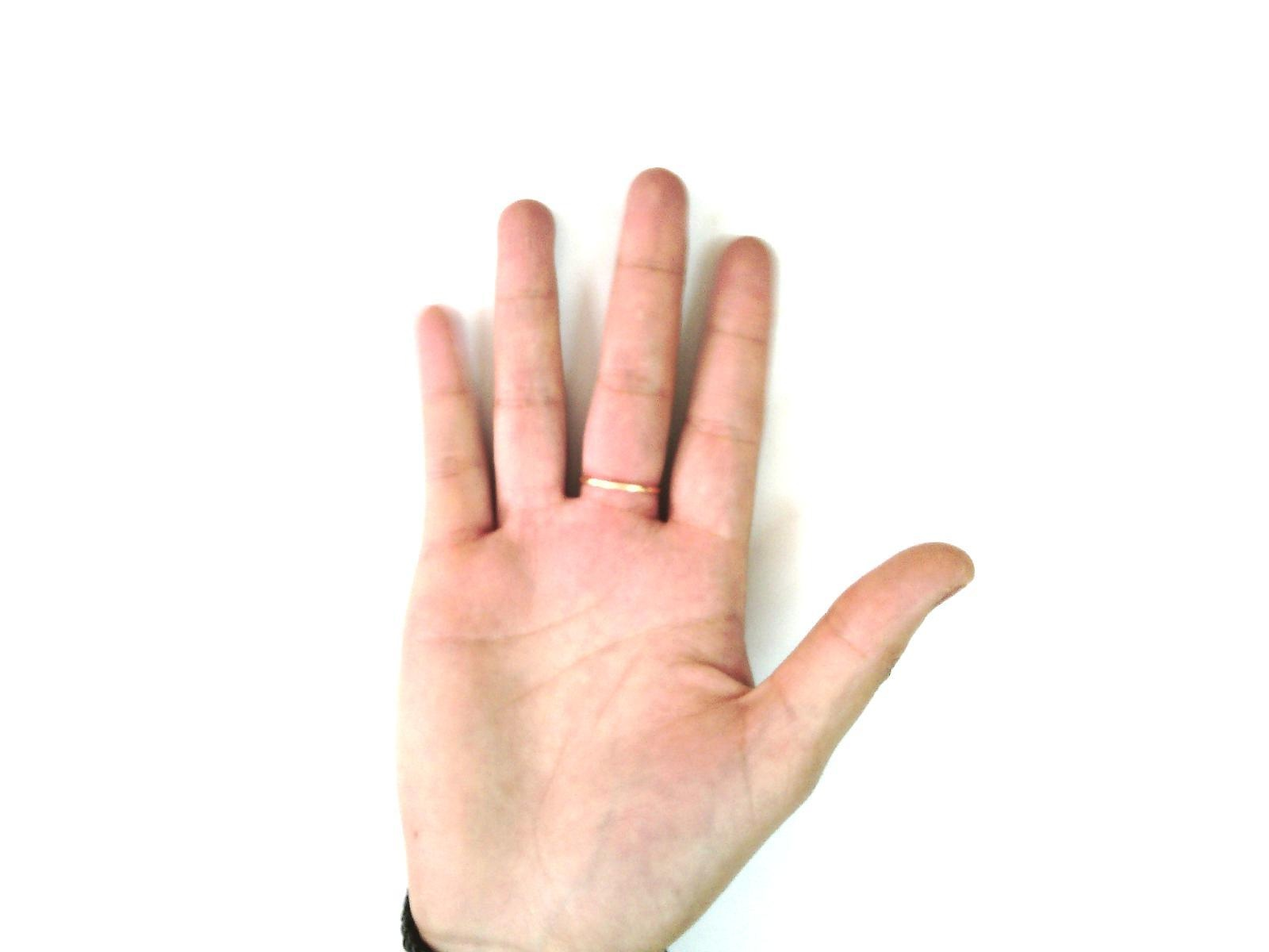open_palm: (392, 166, 976, 951)
